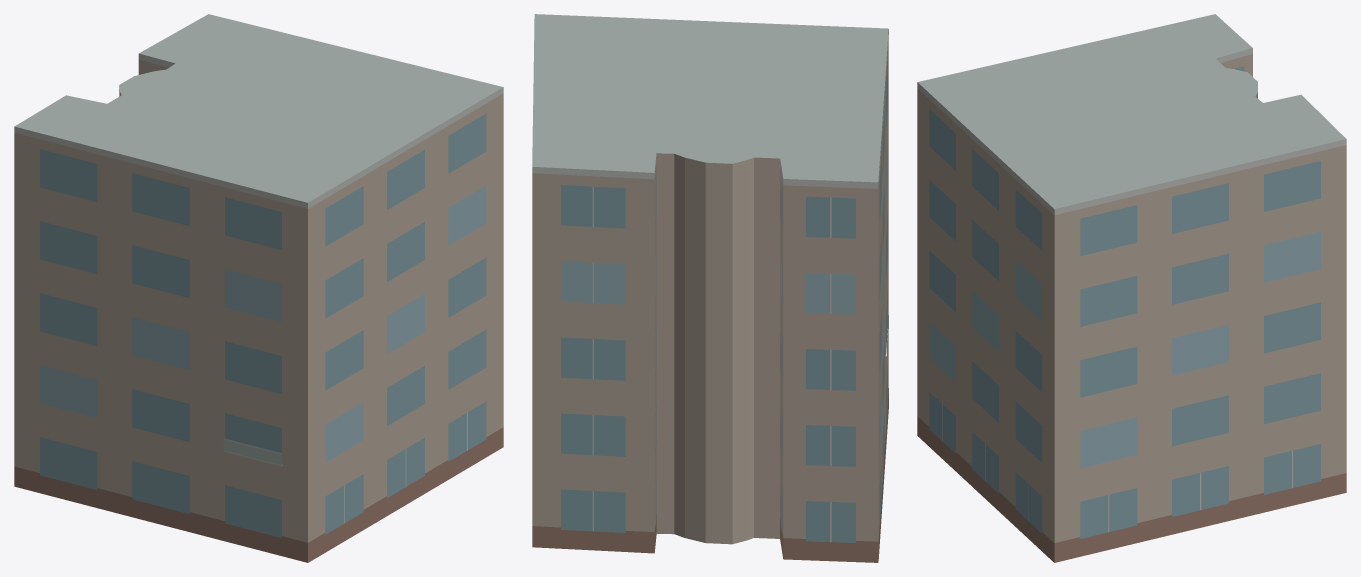
The model's file is survey-upis-32948375.glb.
3 views of the same model, side by side, from view 1: azimuth 30°, elevation 25°; view 2: azimuth 150°, elevation 25°; view 3: azimuth 270°, elevation 25° (orthographic). The views are drawn at different scales.
Visible parts, largest first — view 1: survey-upis-32948375.tmp; view 2: survey-upis-32948375.tmp; view 3: survey-upis-32948375.tmp.
Boxes of the visible parts, x1,y1,x2,y2 form: survey-upis-32948375.tmp: [14, 14, 503, 562]; survey-upis-32948375.tmp: [532, 14, 888, 562]; survey-upis-32948375.tmp: [917, 14, 1346, 562].
Bounding box in the file's own units: 17.06 × 14.4 × 15.84.
